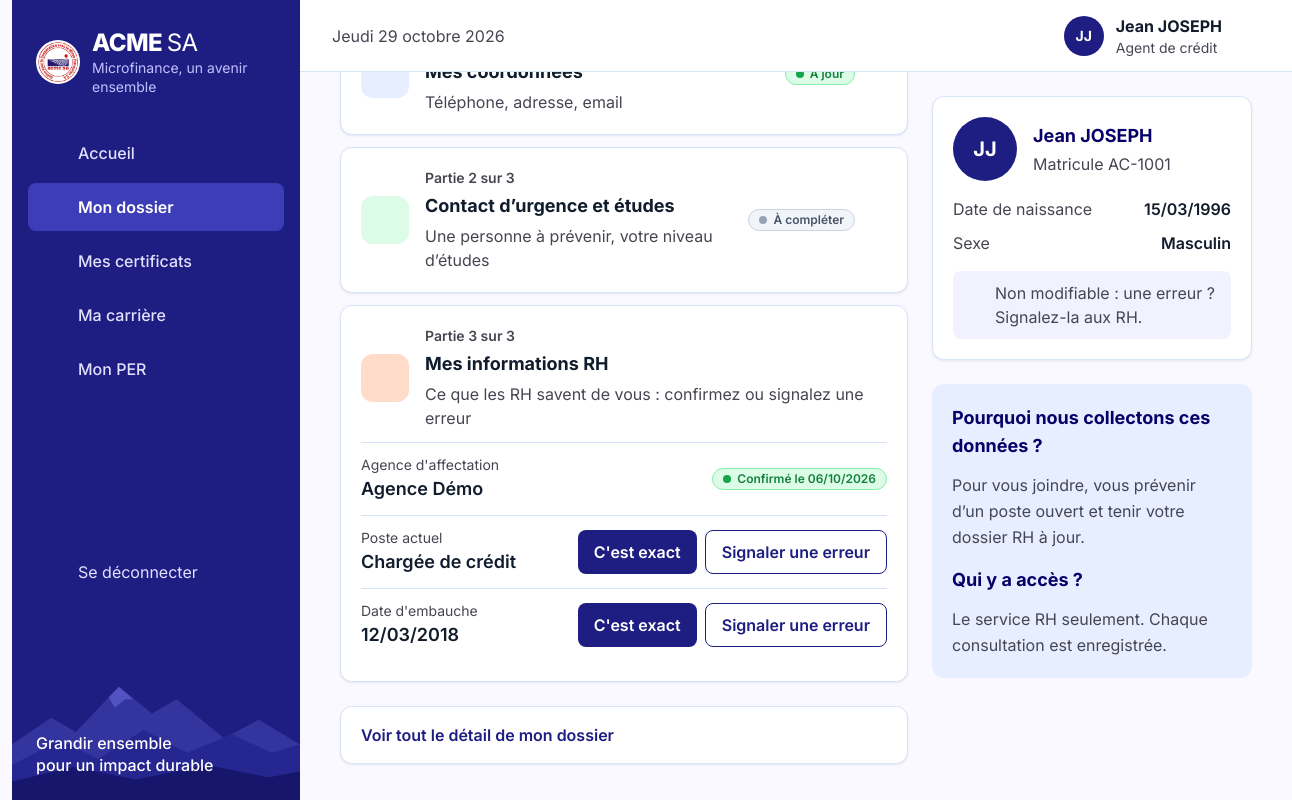
Scenario: US-129 CA-04 — la partie 3 dans la page › une erreur de champ s’affiche près du champ
(page scrolled)
What coordinates should you click on to do the following:
click the button "Signaler une erreur" in the row of "Chargée de crédit"
I would click on:
 (796, 552)
Its box is [705,530,887,574].
(page scrolled)
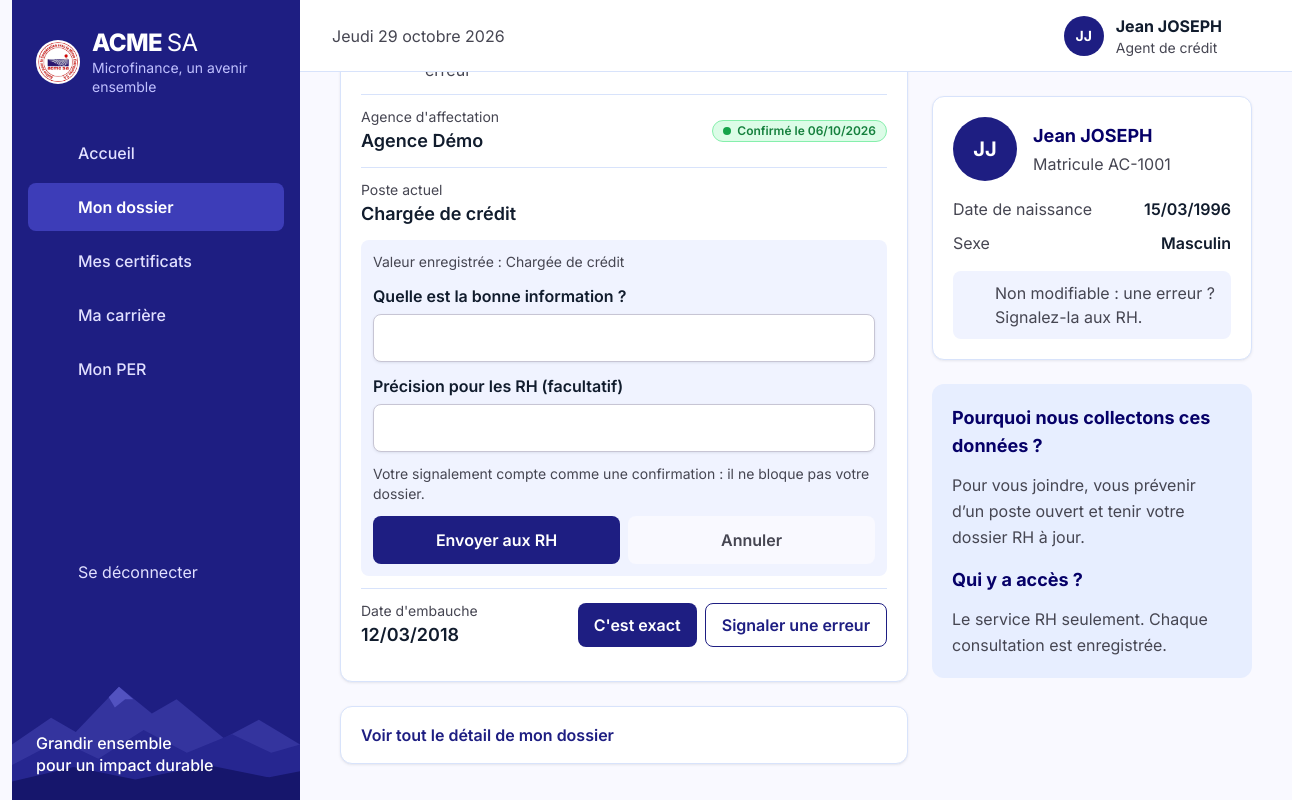
What coordinates should you click on to do the following:
click the button "Envoyer aux RH"
I would click on:
 (496, 540)
Its box is [373,516,620,564].
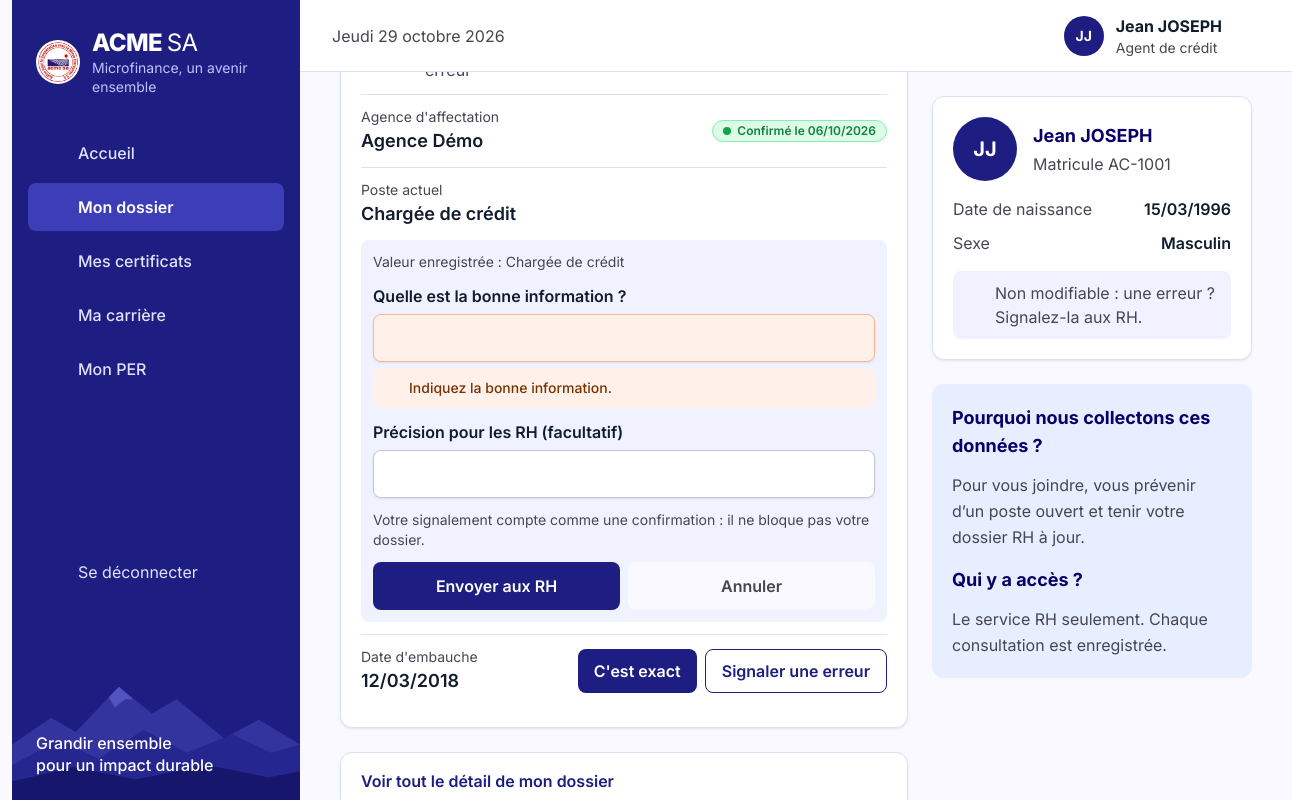
expect the text "Indiquez la bonne information." is shown: met, box [373,368,875,408]
